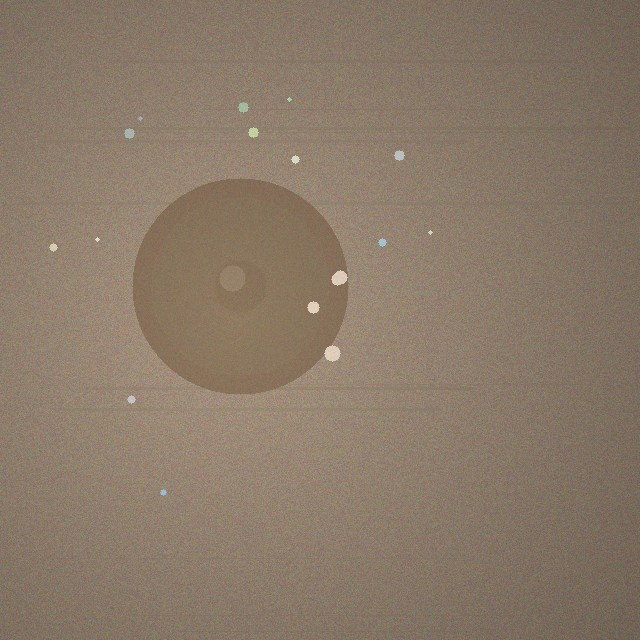overburn: (132, 178, 348, 394)
